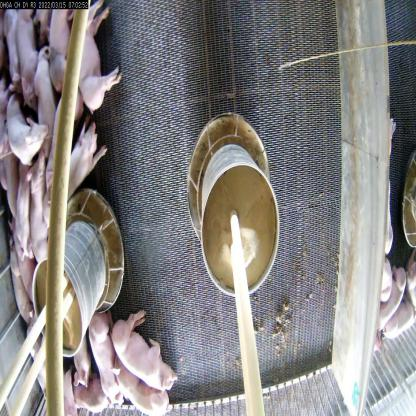Pig: (60, 5, 126, 118), (38, 115, 117, 207), (112, 299, 176, 396), (26, 37, 66, 152), (3, 86, 52, 167), (86, 304, 121, 414), (110, 356, 172, 416), (42, 6, 83, 92), (26, 151, 55, 268), (67, 366, 118, 416), (382, 259, 408, 354), (12, 170, 39, 254), (9, 245, 38, 315), (49, 368, 90, 415), (62, 338, 95, 392)
